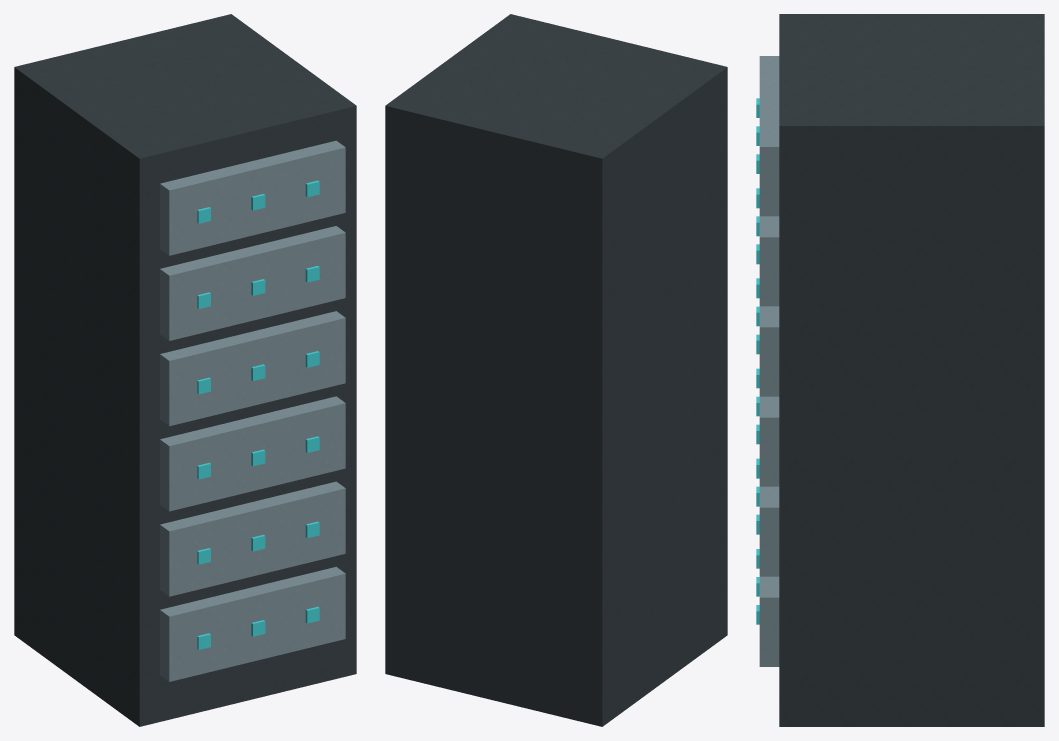
The model's file is server-rack.glb.
The picture shows the model from 3 angles, left to right: view 1: azimuth 30°, elevation 25°; view 2: azimuth 150°, elevation 25°; view 3: azimuth 270°, elevation 25°; orthographic projection. The views are drawn at different scales.
Parts seen in each view (by area): view 1: Server cabinet 001, Server tray 006, Server tray 014, Server tray 022, Server tray 010, Server tray 002, Server tray 018; view 2: Server cabinet 001; view 3: Server cabinet 001, Server tray 022, Server tray 014, Server tray 002, Server tray 006, Server tray 010, Server tray 018.
Boxes of the visible parts, bbox=[...] form: Server cabinet 001: bbox=[14, 14, 356, 726]; Server tray 006: bbox=[160, 481, 345, 596]; Server tray 014: bbox=[160, 311, 345, 426]; Server tray 022: bbox=[160, 140, 345, 255]; Server tray 010: bbox=[160, 396, 345, 511]; Server tray 002: bbox=[160, 566, 345, 681]; Server tray 018: bbox=[160, 226, 345, 340]; Server cabinet 001: bbox=[385, 14, 727, 726]; Server cabinet 001: bbox=[779, 14, 1044, 726]; Server tray 022: bbox=[759, 56, 779, 216]; Server tray 014: bbox=[759, 306, 779, 396]; Server tray 002: bbox=[759, 576, 779, 666]; Server tray 006: bbox=[759, 486, 779, 576]; Server tray 010: bbox=[759, 396, 779, 486]; Server tray 018: bbox=[759, 216, 779, 306].
Size of the model in its own units: 0.8 by 2 by 0.87.
3 materials, 3 textured.
